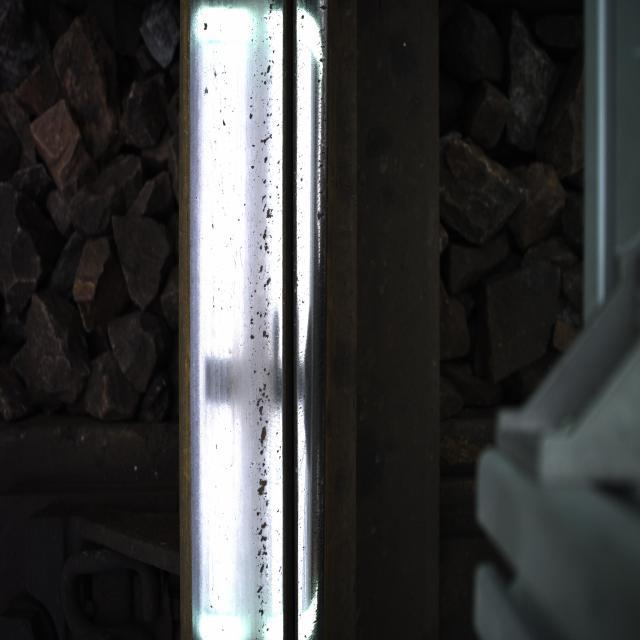scar: (211, 51, 280, 562)
